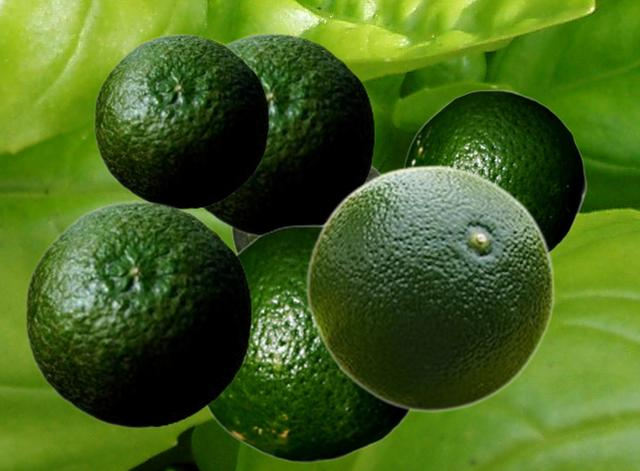calamansi: (305, 164, 555, 411), (24, 200, 251, 428), (205, 224, 412, 462), (202, 32, 374, 237), (93, 33, 268, 209), (402, 89, 586, 252)
